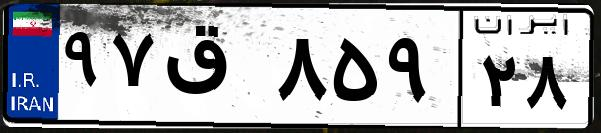2: (475, 38, 525, 113)
5: (330, 28, 385, 110)
7: (110, 28, 158, 98)
8: (270, 28, 330, 110), (525, 38, 570, 115)
9: (385, 28, 445, 110), (57, 26, 110, 100)
ق: (158, 20, 270, 120)
